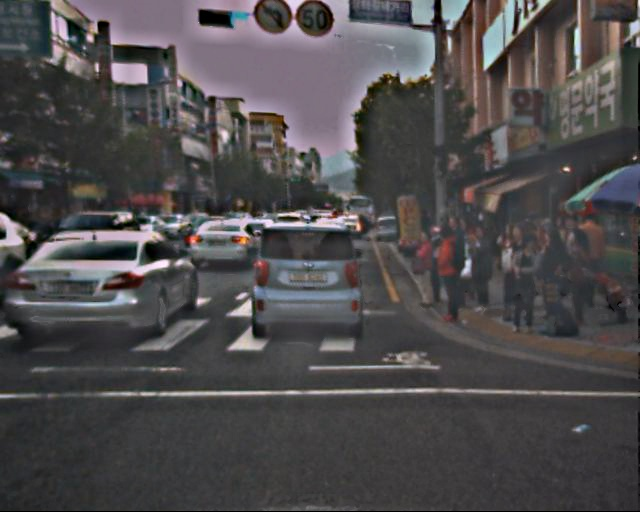person: (431, 224, 470, 319), (506, 237, 545, 331), (555, 230, 594, 324), (460, 221, 498, 313), (572, 214, 607, 300), (496, 218, 531, 303), (532, 231, 566, 315), (551, 214, 585, 297), (409, 229, 439, 302)
